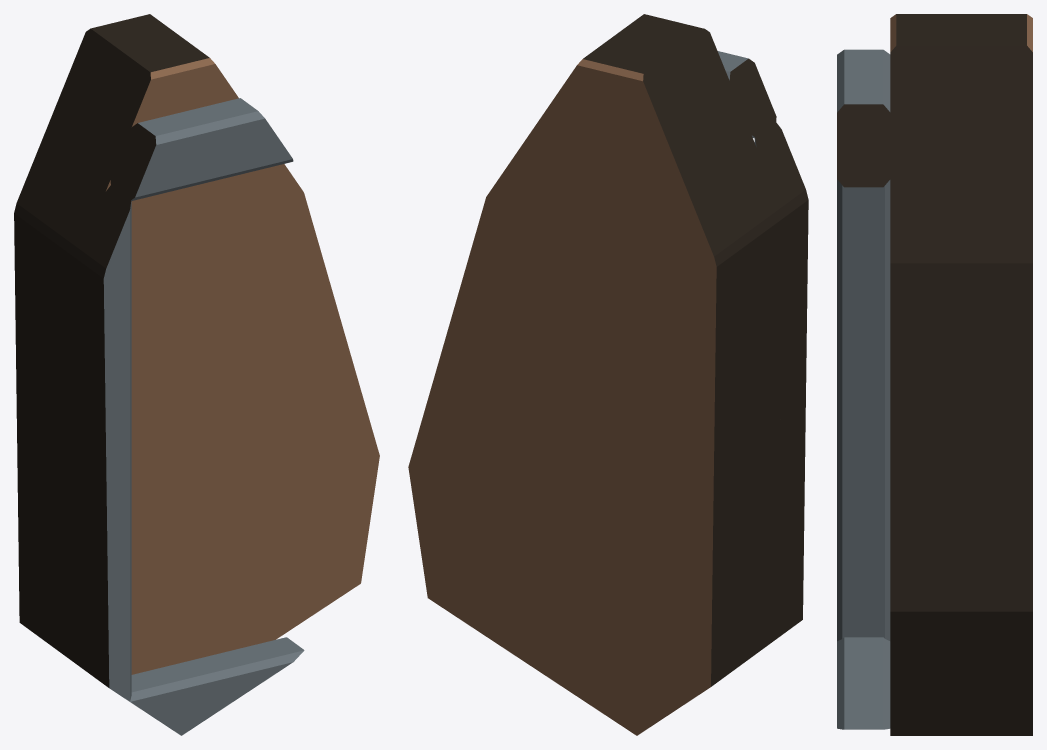
File: SM_DoorShard_01_18.fbx
3 views of the same model, side by side, from view 1: azimuth 30°, elevation 25°; view 2: azimuth 150°, elevation 25°; view 3: azimuth 270°, elevation 25° (orthographic). The views are drawn at different scales.
Visible parts, largest first — view 1: SM_DoorShard_01_18; view 2: SM_DoorShard_01_18; view 3: SM_DoorShard_01_18.
Boxes of the visible parts, x1,y1,x2,y2 form: SM_DoorShard_01_18: (14,14,379,735); SM_DoorShard_01_18: (408,14,808,735); SM_DoorShard_01_18: (837,14,1032,735).
Size of the model in its own units: 42.57 by 22 by 87.23.
